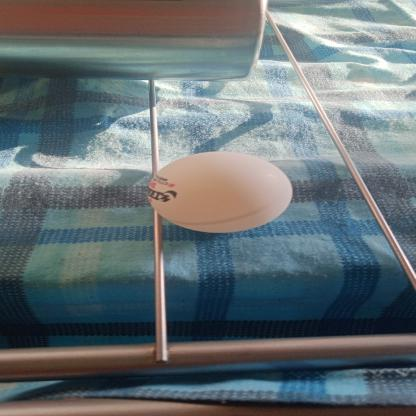Tabel Tennis: (144, 149, 294, 235)
